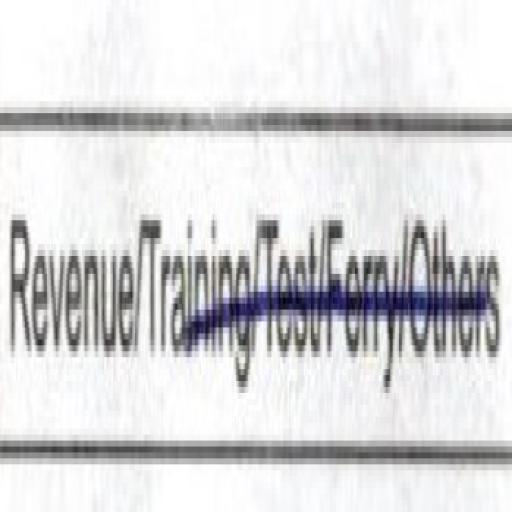check: (0, 36, 142, 512)
